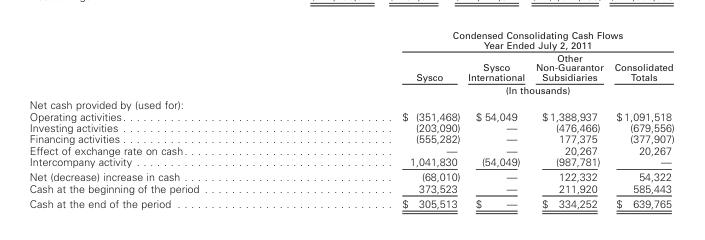table: (28, 29, 673, 208)
table column: (28, 29, 299, 208), (299, 29, 463, 208), (529, 29, 608, 208), (463, 29, 529, 208), (608, 29, 673, 208)
table column header: (28, 29, 673, 96)
table projected row header: (28, 96, 673, 109)
table row: (28, 50, 673, 83), (28, 29, 673, 50), (28, 181, 673, 195), (28, 83, 673, 96), (28, 96, 673, 109), (28, 155, 673, 168), (28, 168, 673, 181), (28, 195, 673, 208), (28, 109, 673, 121), (28, 143, 673, 155), (28, 121, 673, 132), (28, 132, 673, 143)
table spanning cell: (299, 29, 673, 50), (299, 83, 673, 96)
